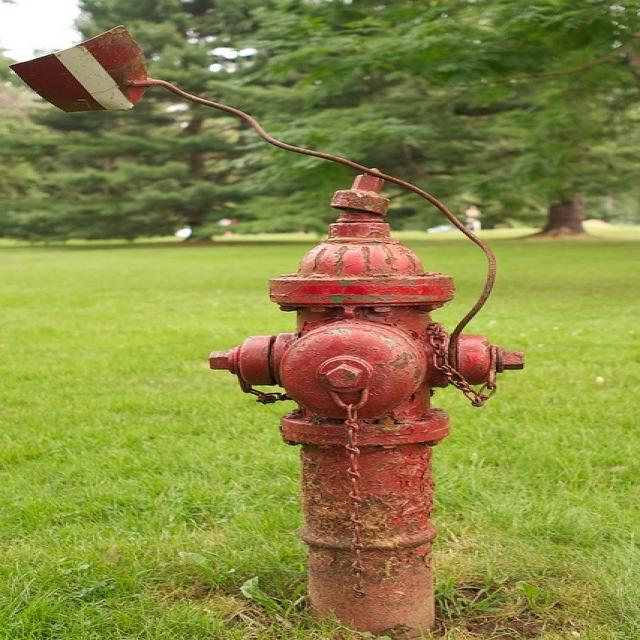fire_hydrant: (177, 185, 554, 640)
